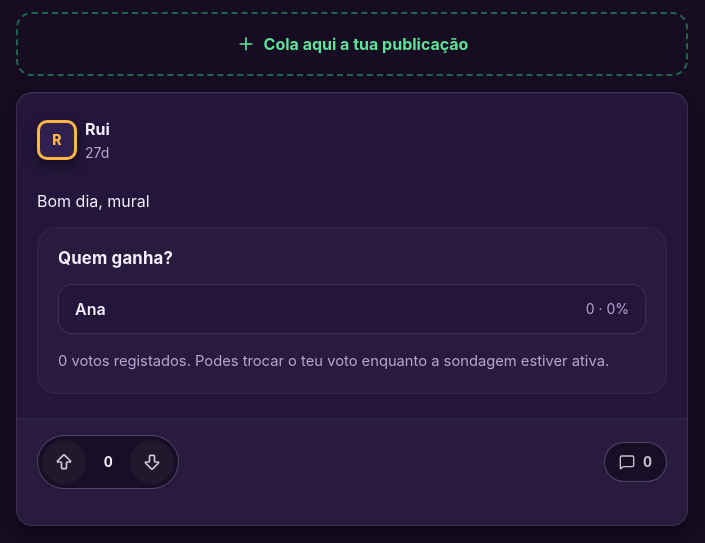
Test case: HubFeedModule › when the server refuses › undoes a poll vote
Click the button "Ana 0 · 0%": (90, 309) 58,284 -> 646,334
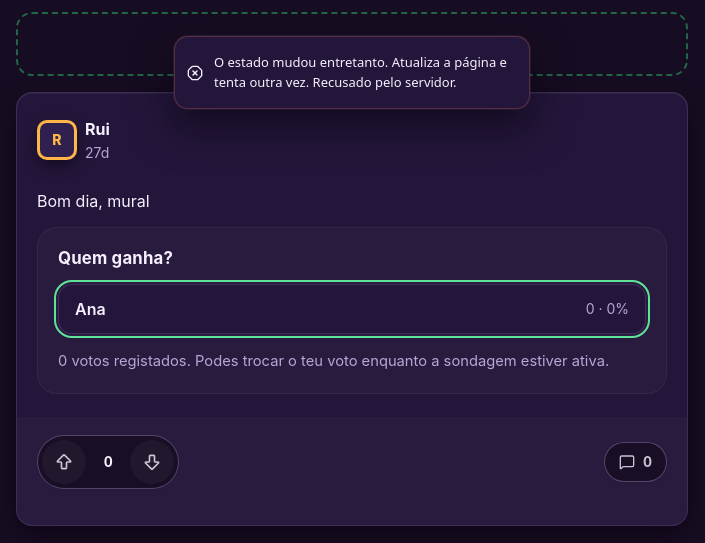
Expected: the text "Recusado pelo servidor" is shown, 214,53 -> 507,90
